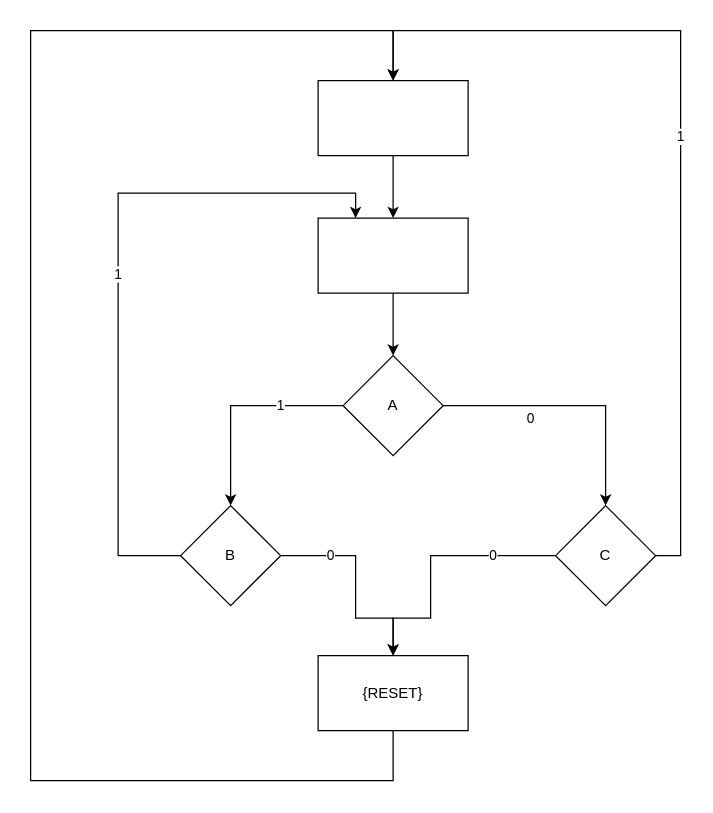
Image size: 713x813. Some labels were removed from this diagram. The shapes that lost their labels are listed below. From the top down, each one's box as (x1, y1, x2, y2) in pixels, then its label:
(317, 79, 468, 156): {BEGIN}; $DEFAULT
(317, 217, 468, 293): {RDY}
